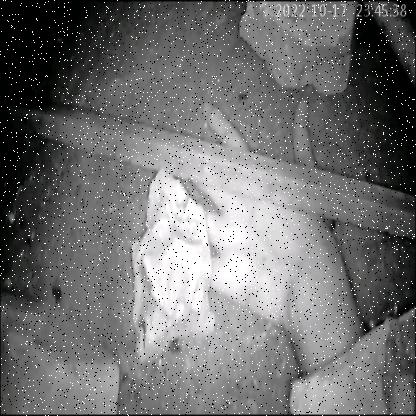hand: (136, 95, 354, 358)
